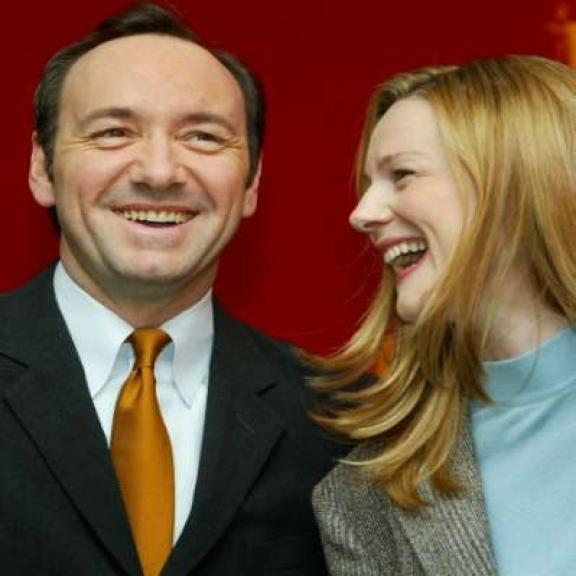face: (14, 35, 266, 286), (346, 90, 497, 331)
